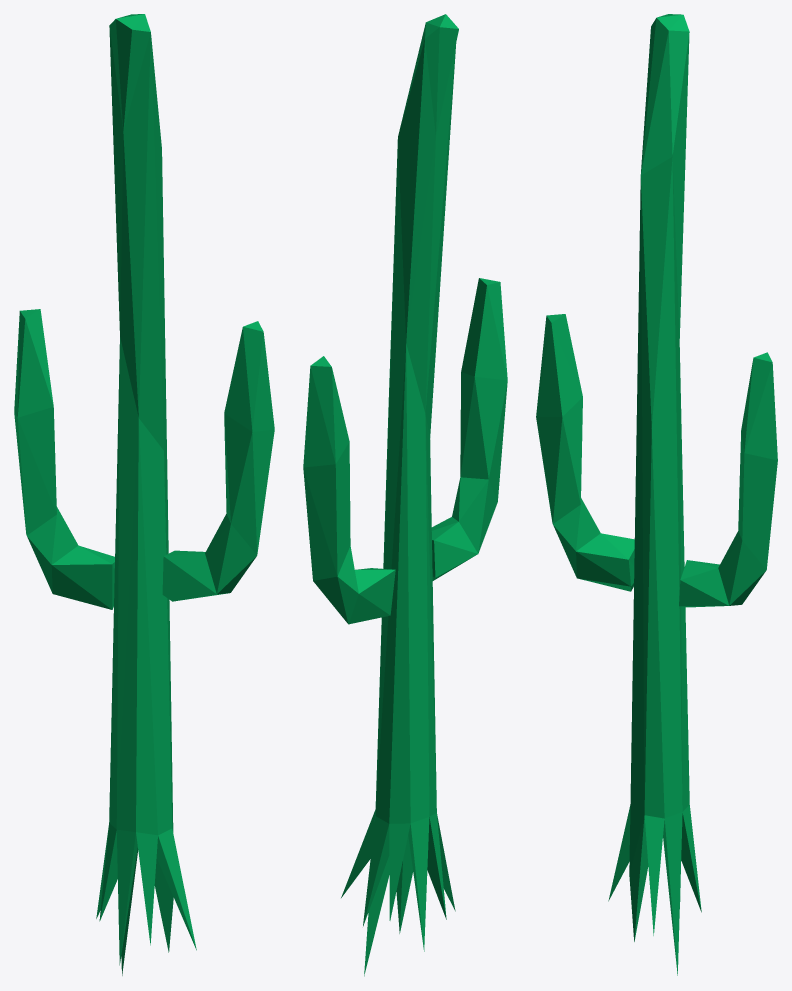
Rendered from SeguaroCactusLarge2_LOD2.fbx.
3 views of the same model, side by side, from view 1: azimuth 90°, elevation 25°; view 2: azimuth 150°, elevation 25°; view 3: azimuth 270°, elevation 25° (orthographic). The views are drawn at different scales.
Parts seen in each view (by area): view 1: SeguaroCactusLarge2_LOD2; view 2: SeguaroCactusLarge2_LOD2; view 3: SeguaroCactusLarge2_LOD2.
Part boxes in pixels (bbox=[...]): SeguaroCactusLarge2_LOD2: bbox=[14, 14, 274, 975]; SeguaroCactusLarge2_LOD2: bbox=[303, 14, 507, 976]; SeguaroCactusLarge2_LOD2: bbox=[536, 14, 777, 975].
Bounding box in the file's own units: 137 × 577 × 78.49.
